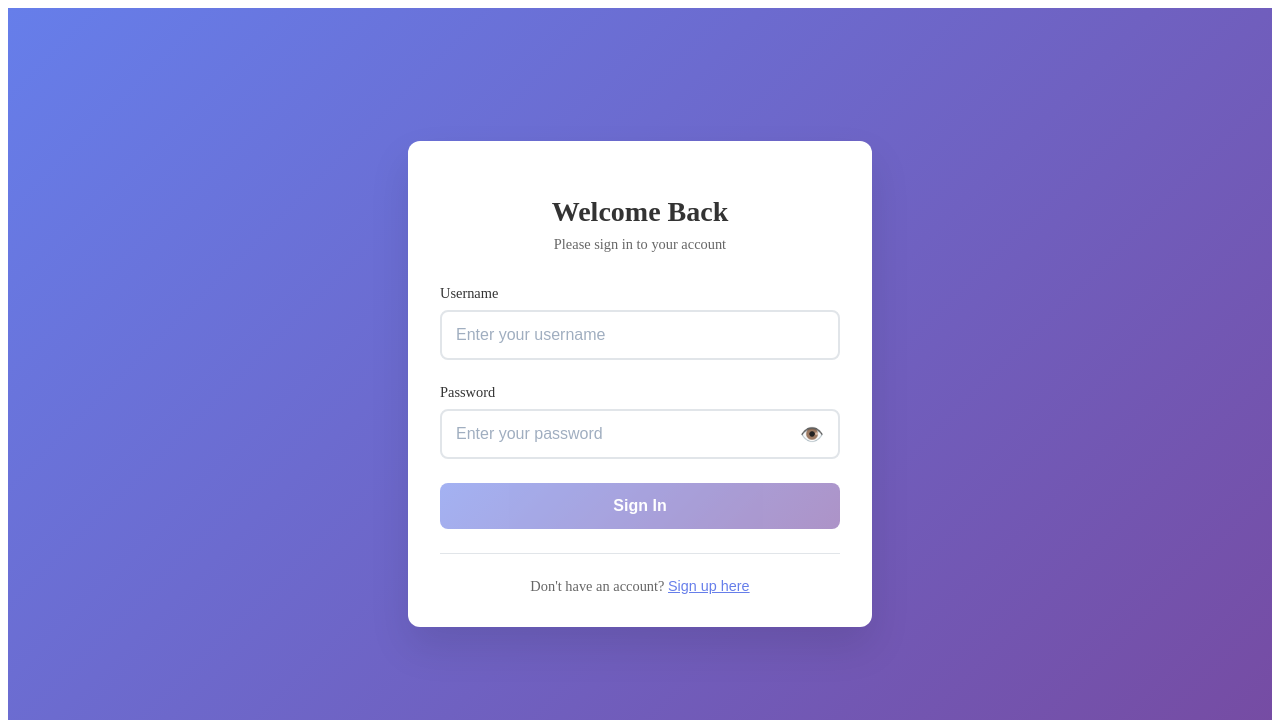
Scenario: Login and Product Flow › Authentication Flow › should show validation errors for empty fields
This screenshot has width=1280, height=720.
Focus the field named "username" at (640,335), box 440,310 -> 840,360
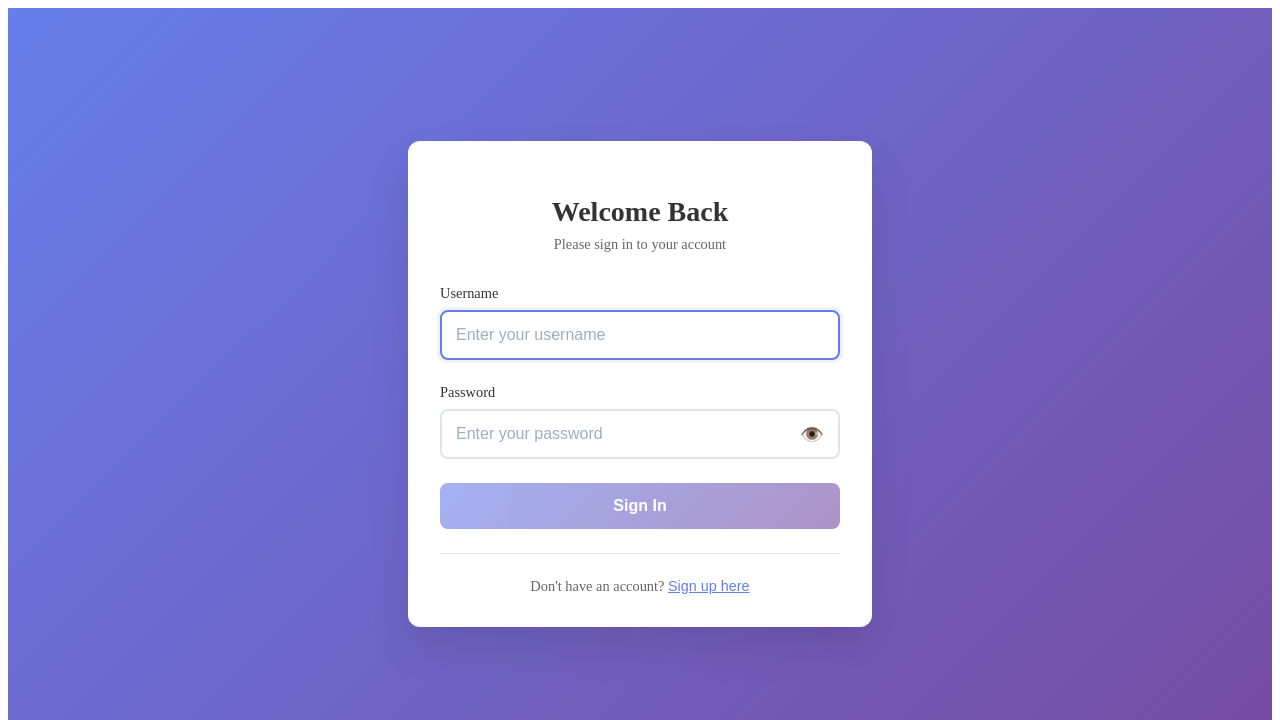
Leave the field named "username", box 440,310 -> 840,360
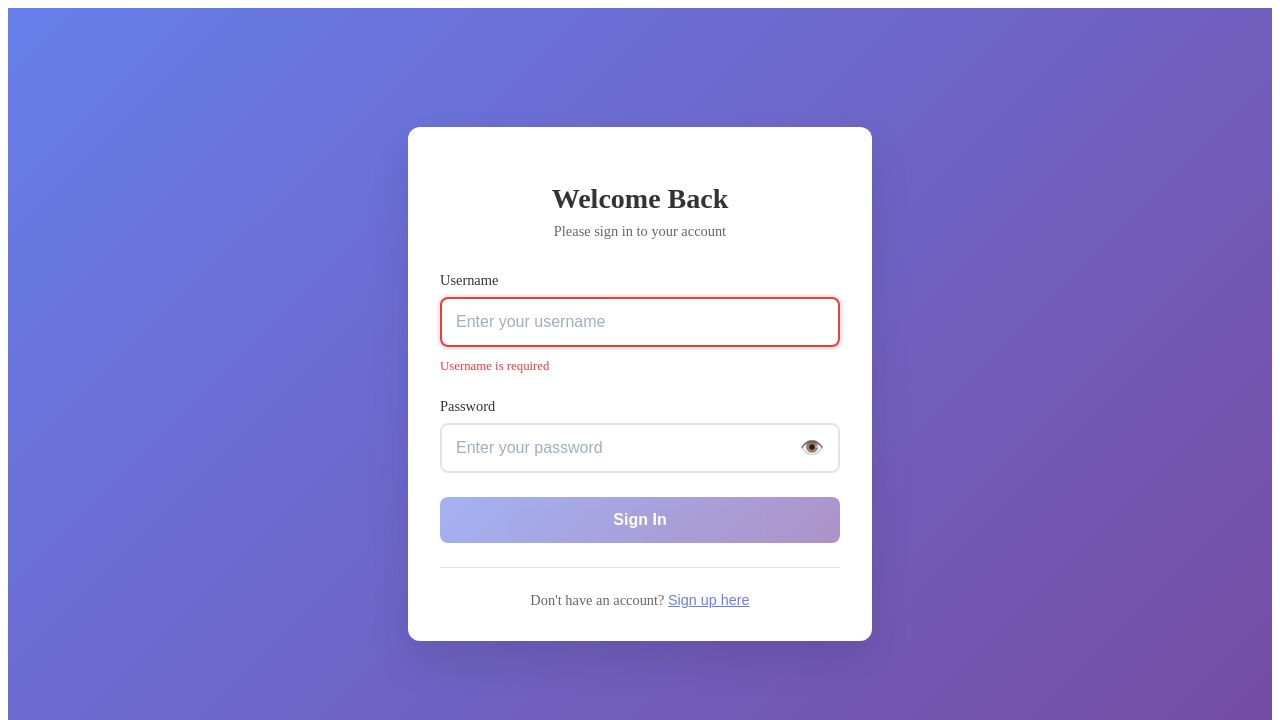
Focus the password field named "password" at (640,448), box 440,423 -> 840,473
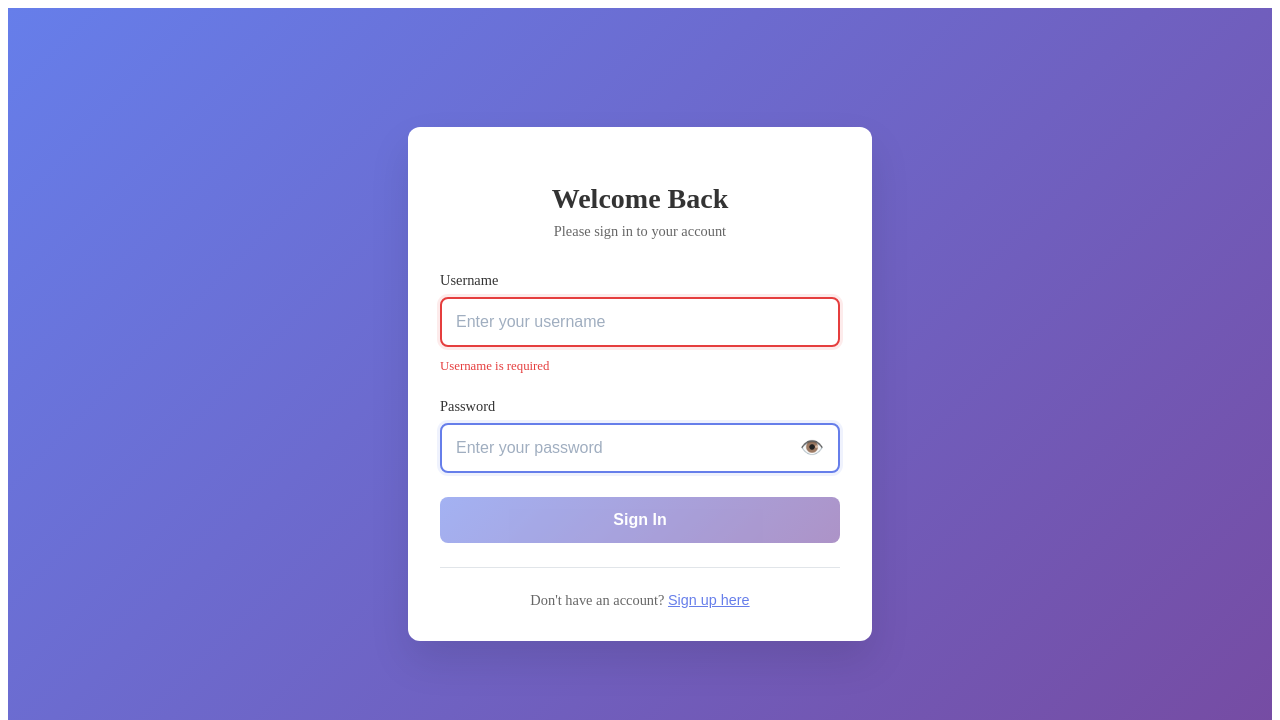
Leave the password field named "password", box 440,423 -> 840,473
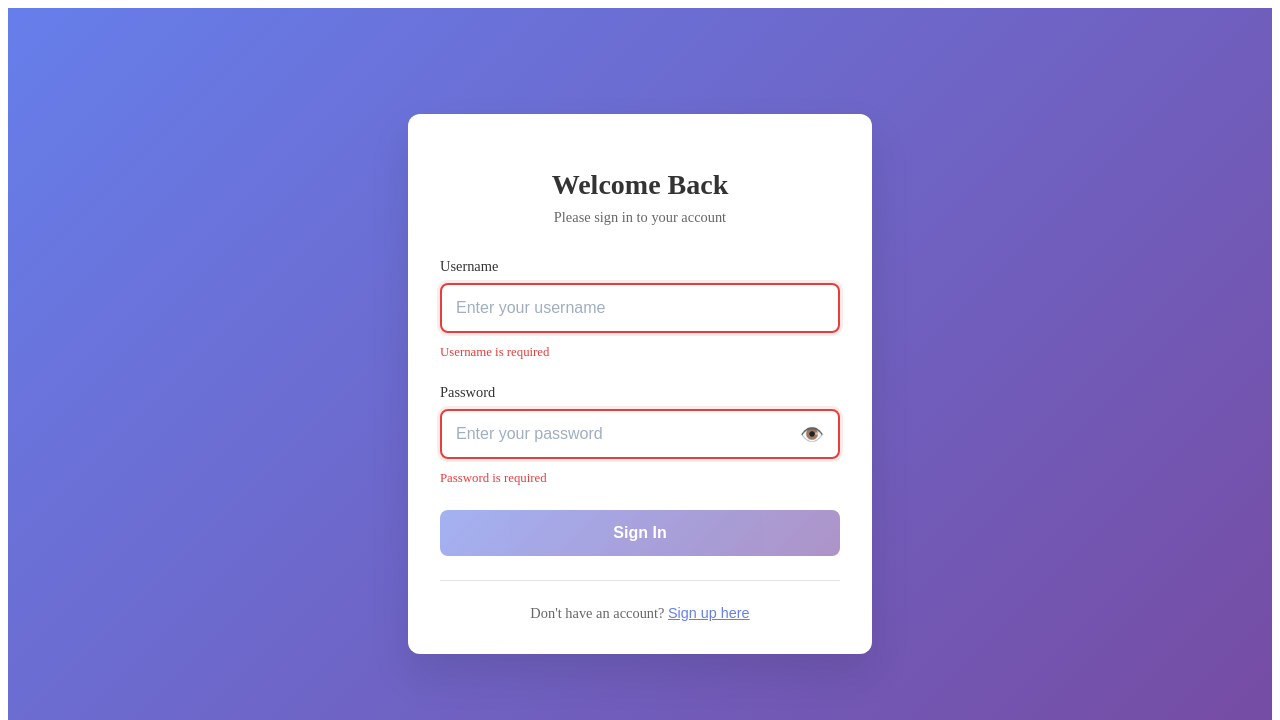
Now the message with class "field-error" reads "Username is required", box 440,345 -> 549,359
Now the message with class "field-error" reads "Password is required", box 440,471 -> 547,485
